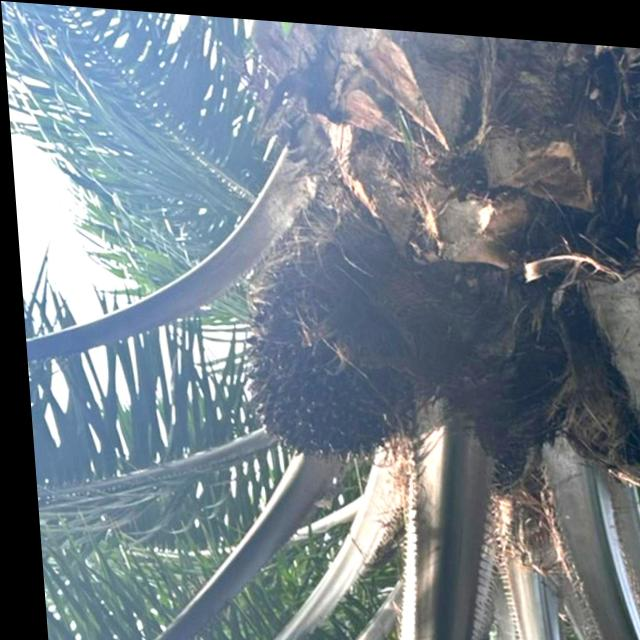almost: (226, 253, 415, 468)
